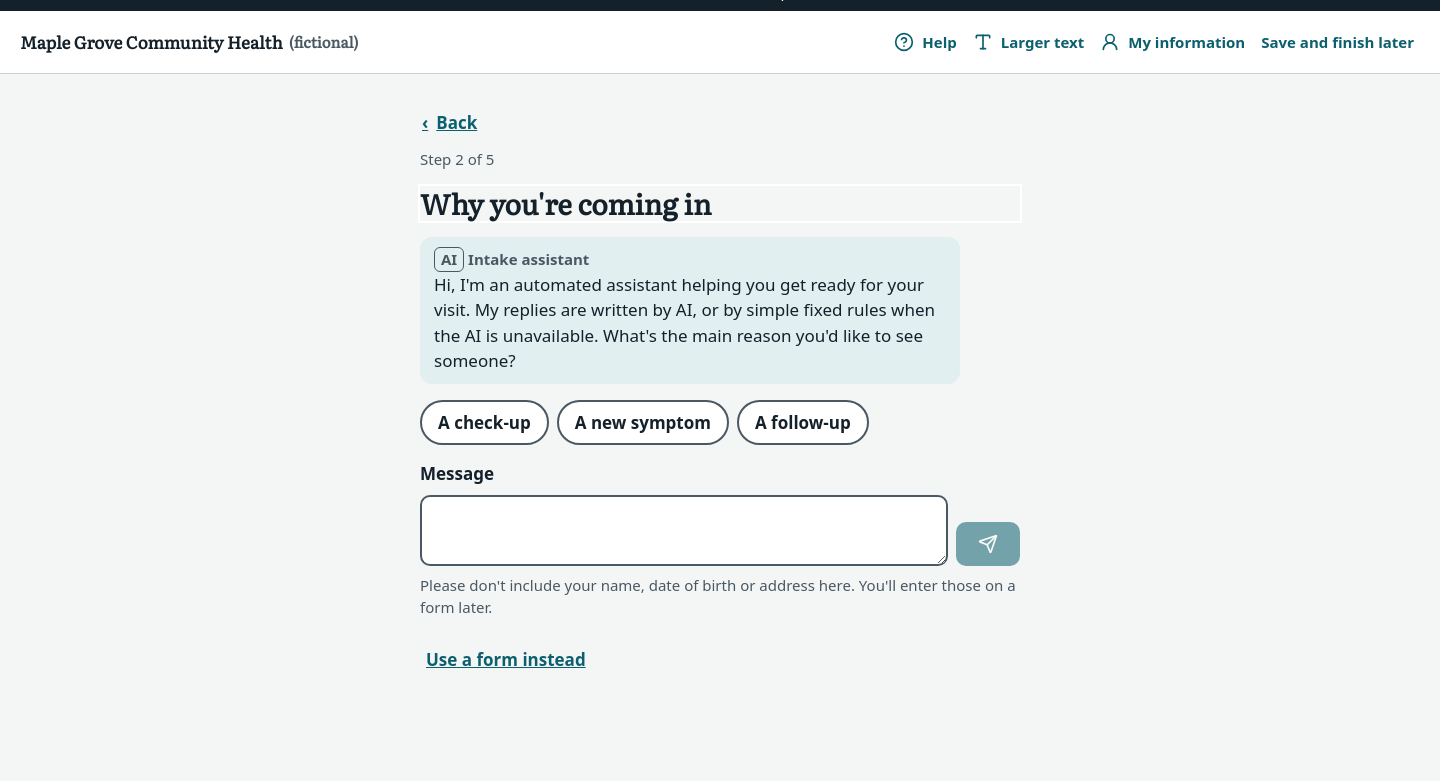
Test: a failed chat turn says so in place and opens the form, even when support content can't load
This screenshot has width=1440, height=781.
Type "Knee pain" into the text box labelled "Message" at (684, 530), box top-left (420, 494), bottom-right (948, 566)
Then press Enter
(page scrolled)
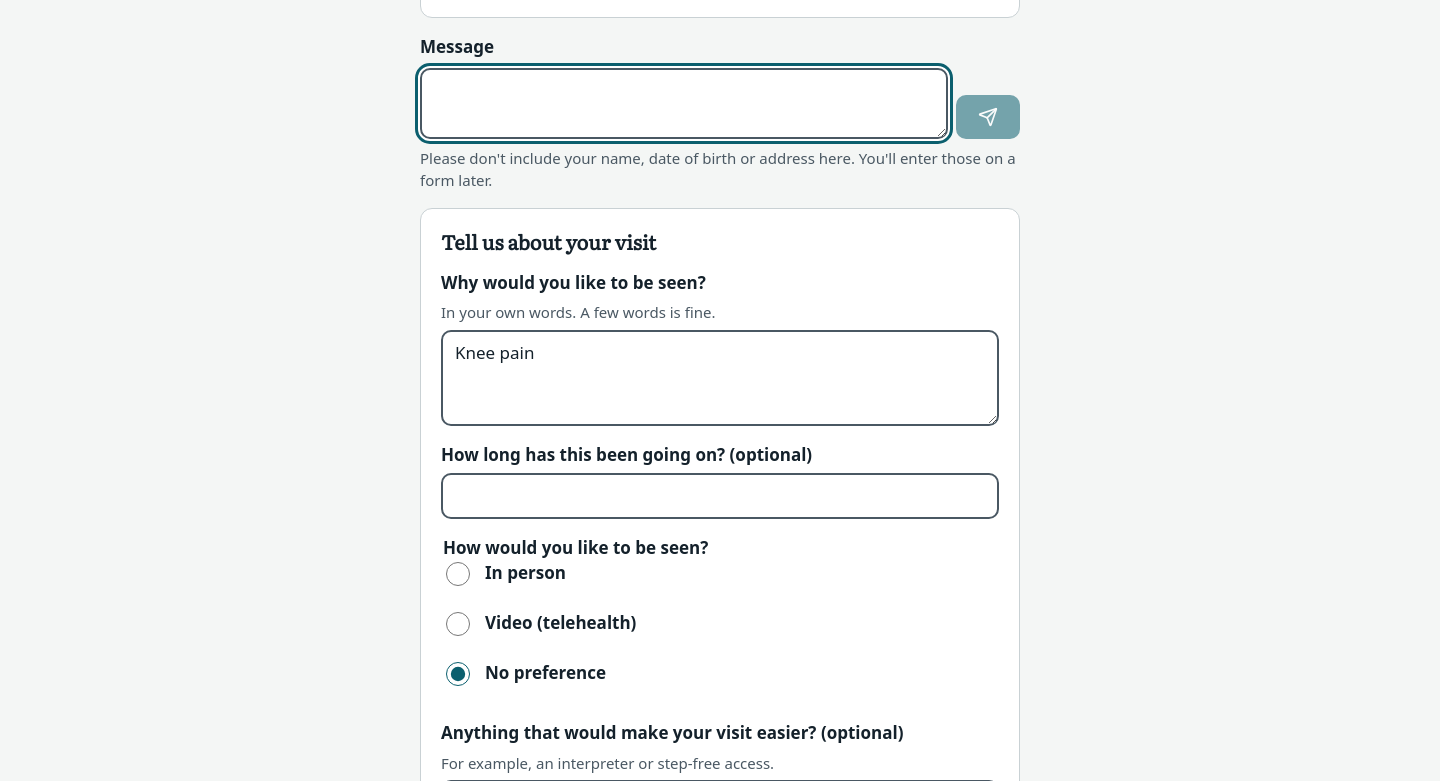
Expected: the text box labelled "Why would you like to be seen?" is shown, top-left (441, 330), bottom-right (999, 426)
